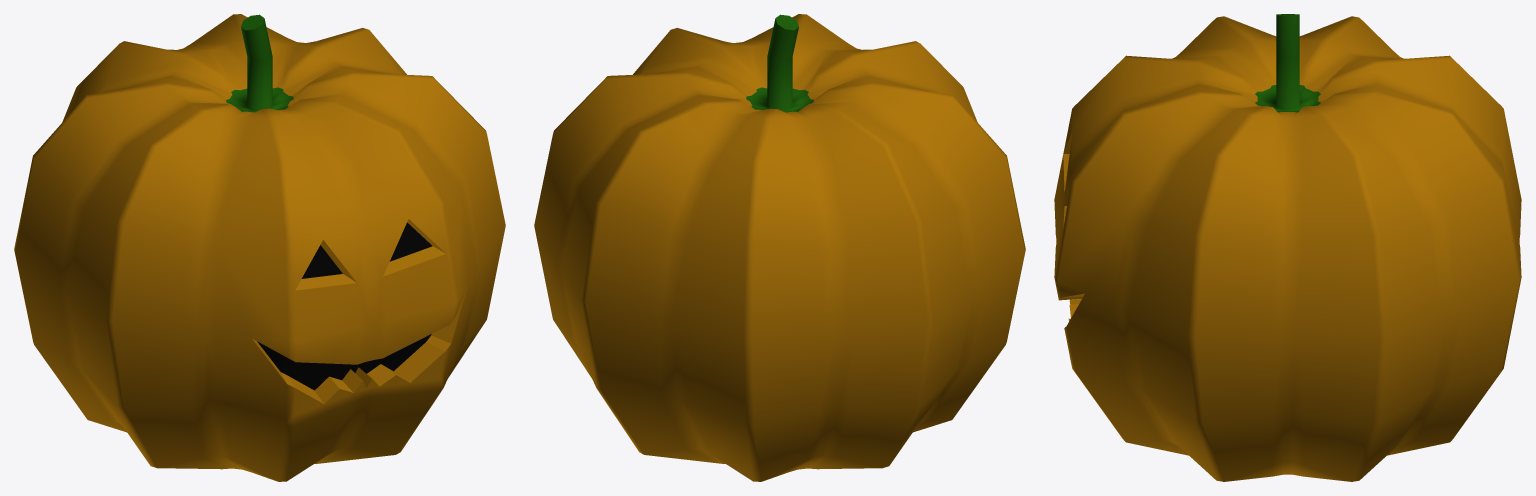
Rendered from pumky_moves.fbx.
3 views of the same model, side by side, from view 1: azimuth 30°, elevation 25°; view 2: azimuth 150°, elevation 25°; view 3: azimuth 270°, elevation 25° (orthographic).
Visible parts, largest first — view 1: polySurface6; view 2: polySurface6; view 3: polySurface6.
Boxes of the visible parts, box(x1,y1,x2,y2) form: polySurface6: box(14, 14, 505, 481); polySurface6: box(534, 14, 1025, 481); polySurface6: box(1054, 14, 1521, 481).
Bounding box in the file's own units: 111 × 111 × 111.
